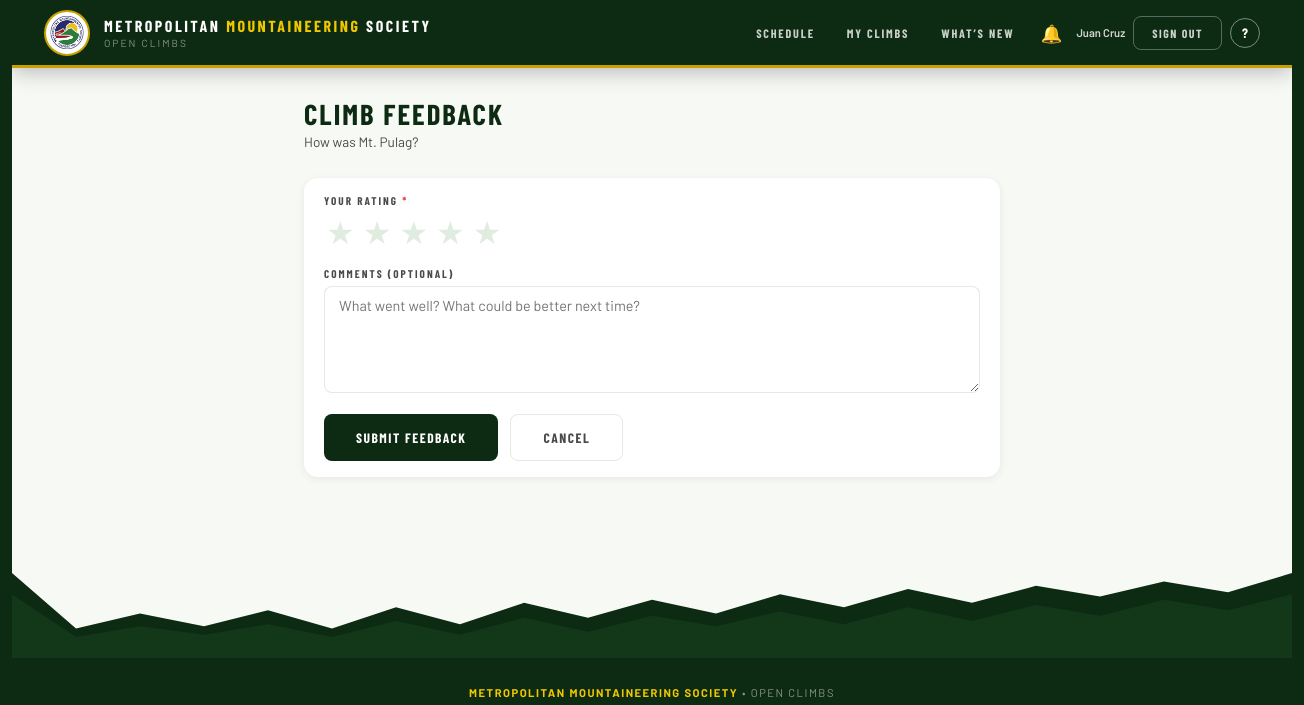
ClimbFeedback page › submits a rating and comments
Expected: the button "Submit Feedback" is shown, x1=324 y1=414 x2=498 y2=461
Click the button named "4 stars" at [450, 231], box x1=434 y1=213 x2=467 y2=249
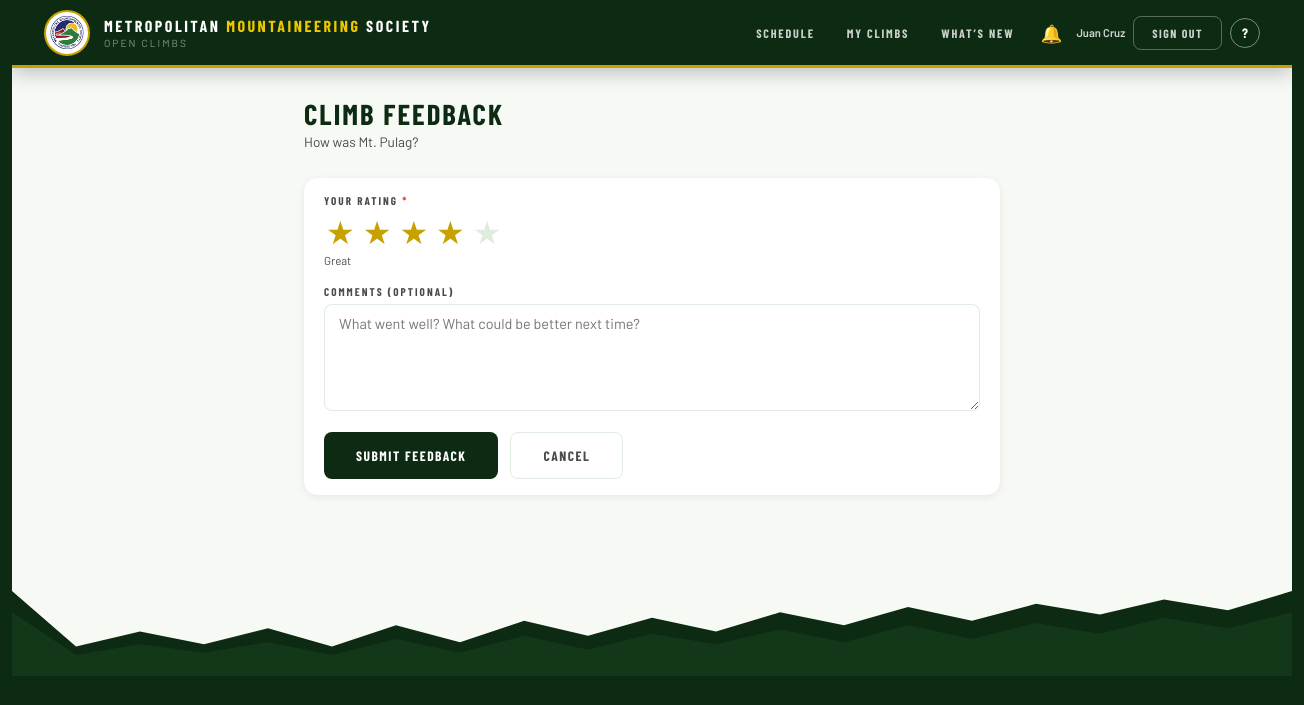
Type "Great climb!" into the text box with placeholder "What went well? What could be better next time?" at [652, 357], box x1=324 y1=304 x2=980 y2=411
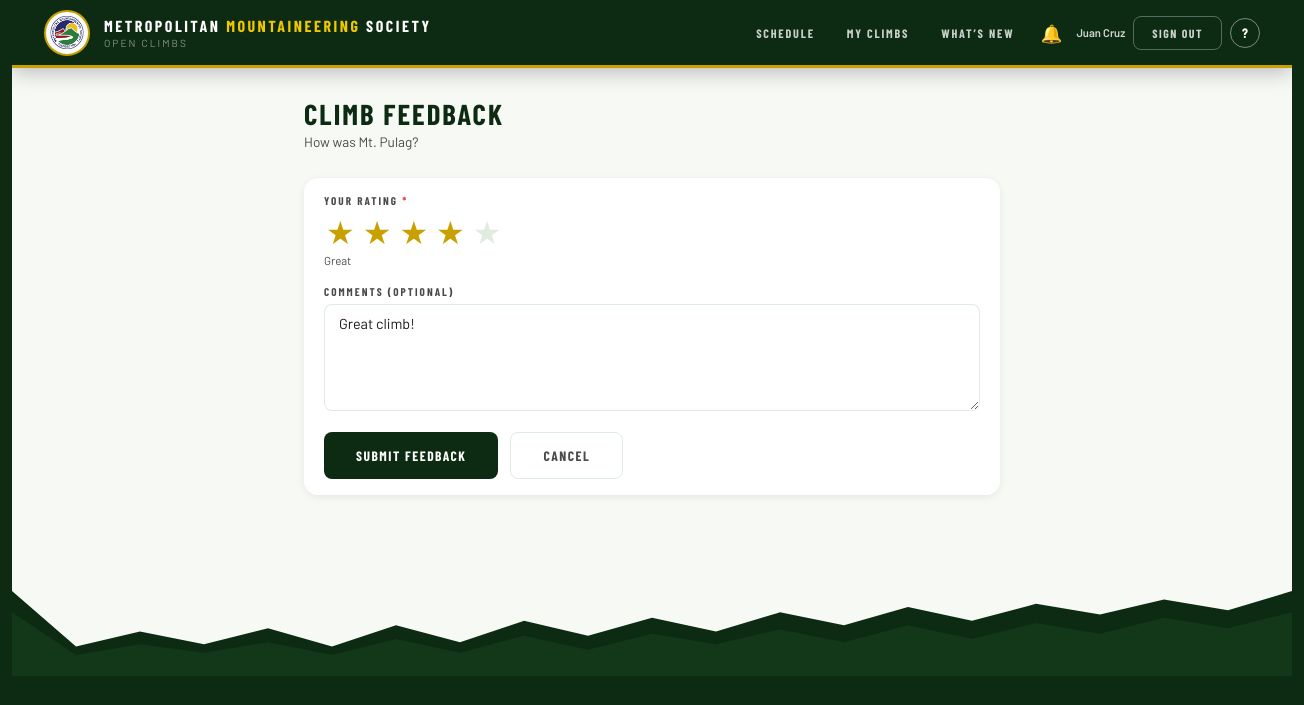
Click the button "Submit Feedback" at [411, 455], box x1=324 y1=432 x2=498 y2=479
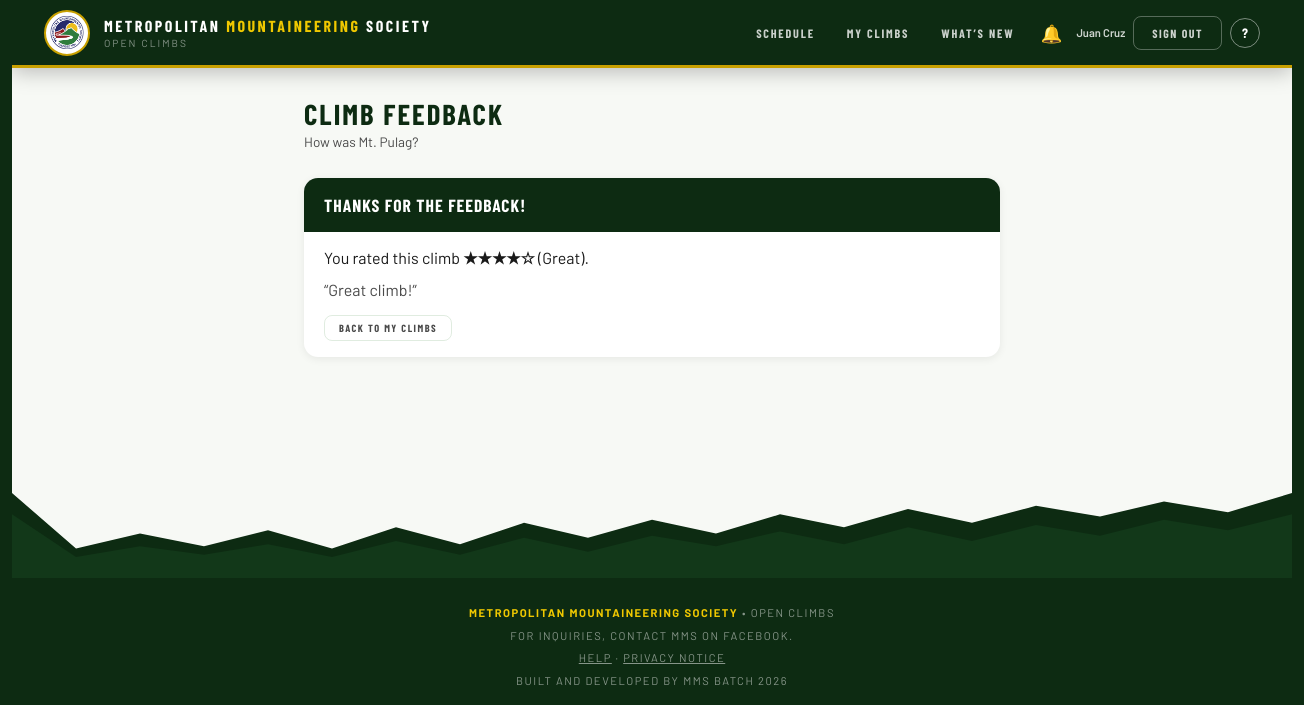
Result: the text "Thanks for the feedback!" is shown at x1=324 y1=194 x2=526 y2=216
